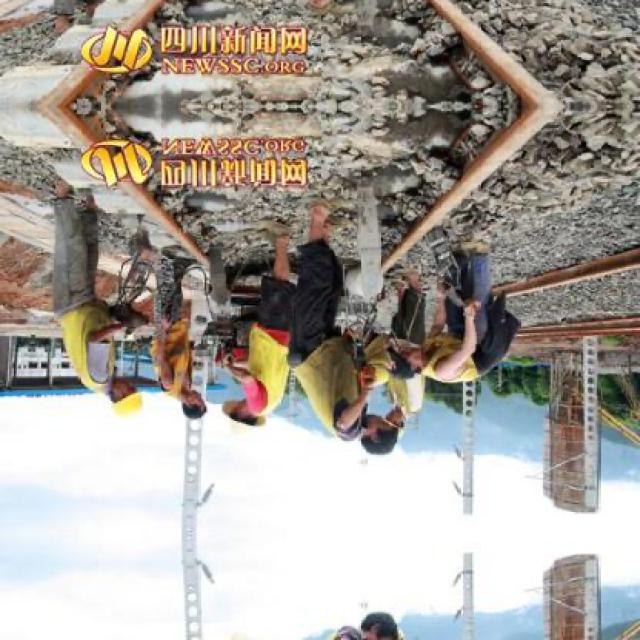con casco: (181, 370, 276, 468), (76, 361, 156, 435)
sin casco: (335, 388, 411, 470), (158, 368, 224, 439), (386, 339, 442, 395), (378, 408, 418, 451)
